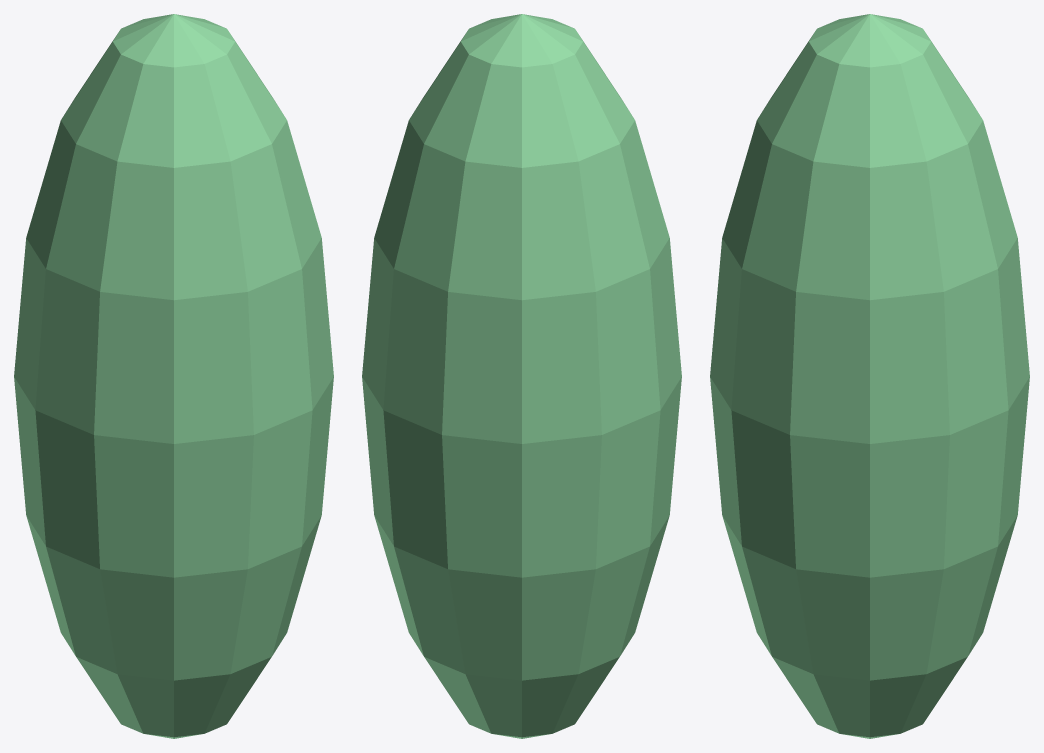
File: slime_leg_L.fbx
3 renders of one model, left to right at view 1: azimuth 30°, elevation 25°; view 2: azimuth 150°, elevation 25°; view 3: azimuth 270°, elevation 25°, orthographic.
Visible parts, largest first — view 1: slime_leg_L_geo; view 2: slime_leg_L_geo; view 3: slime_leg_L_geo.
Part boxes in pixels (box(x1,y1,x2,y2)): slime_leg_L_geo: box(14, 14, 333, 738); slime_leg_L_geo: box(362, 14, 681, 738); slime_leg_L_geo: box(710, 14, 1029, 738).
Size of the model in its own units: 14 by 35 by 14.
